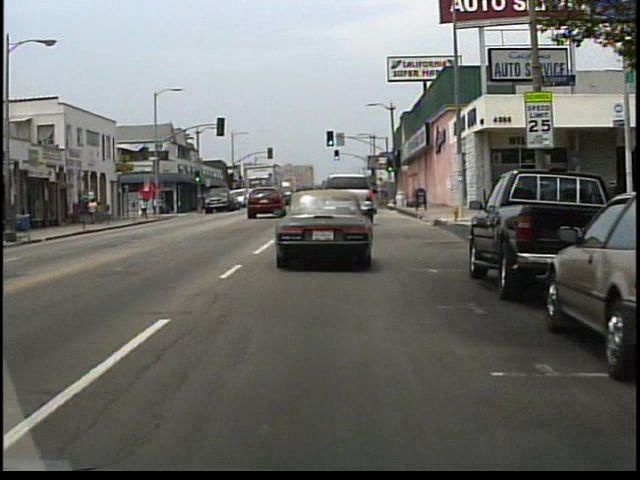person: (89, 197, 100, 224), (98, 200, 106, 224), (141, 197, 150, 218)
